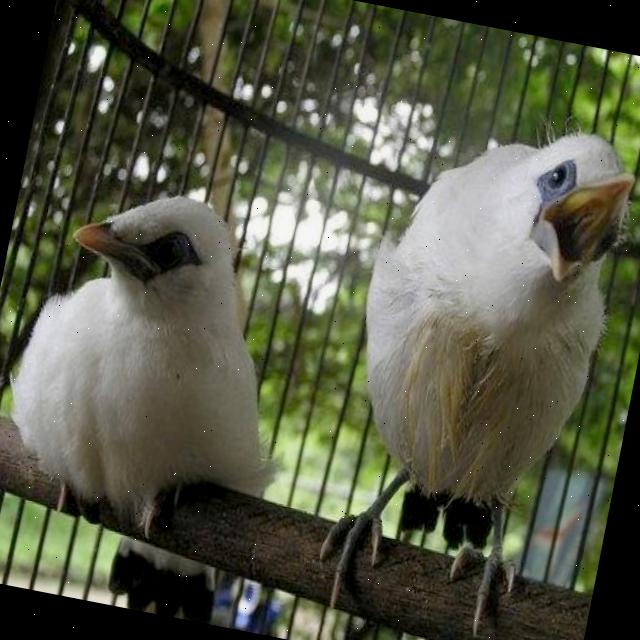Jalak Bali: (290, 34, 640, 640), (0, 146, 346, 634)
